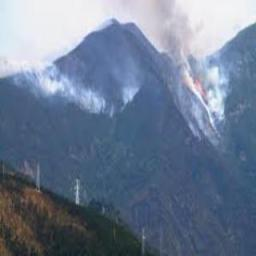Low smoke: (128, 0, 227, 139), (0, 40, 110, 123)
Small fire: (177, 66, 210, 106)
